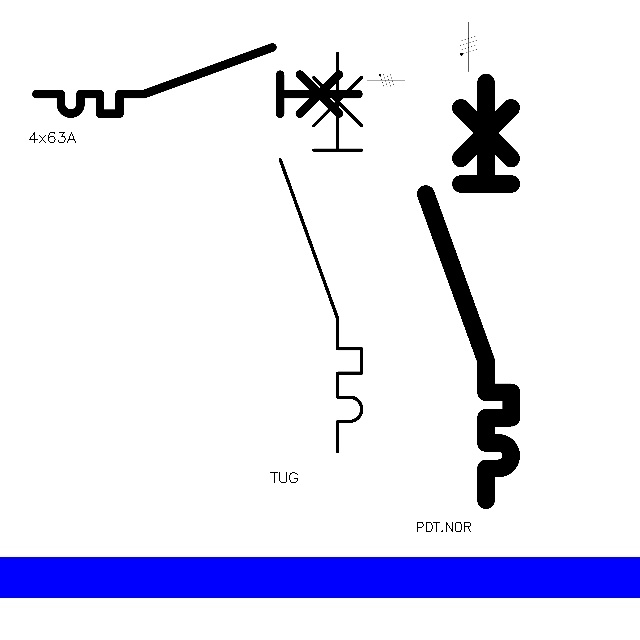interruptor_termomagnetico: (415, 71, 522, 511), (270, 43, 372, 462), (28, 39, 367, 122)
